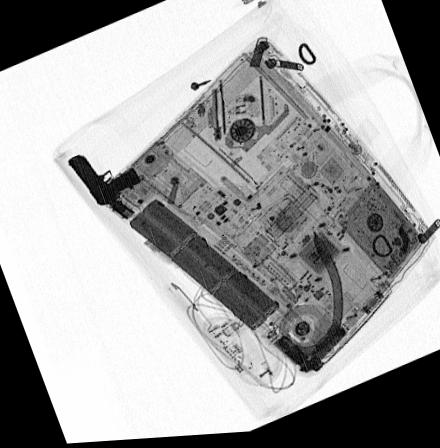Gun: (67, 151, 139, 205)
